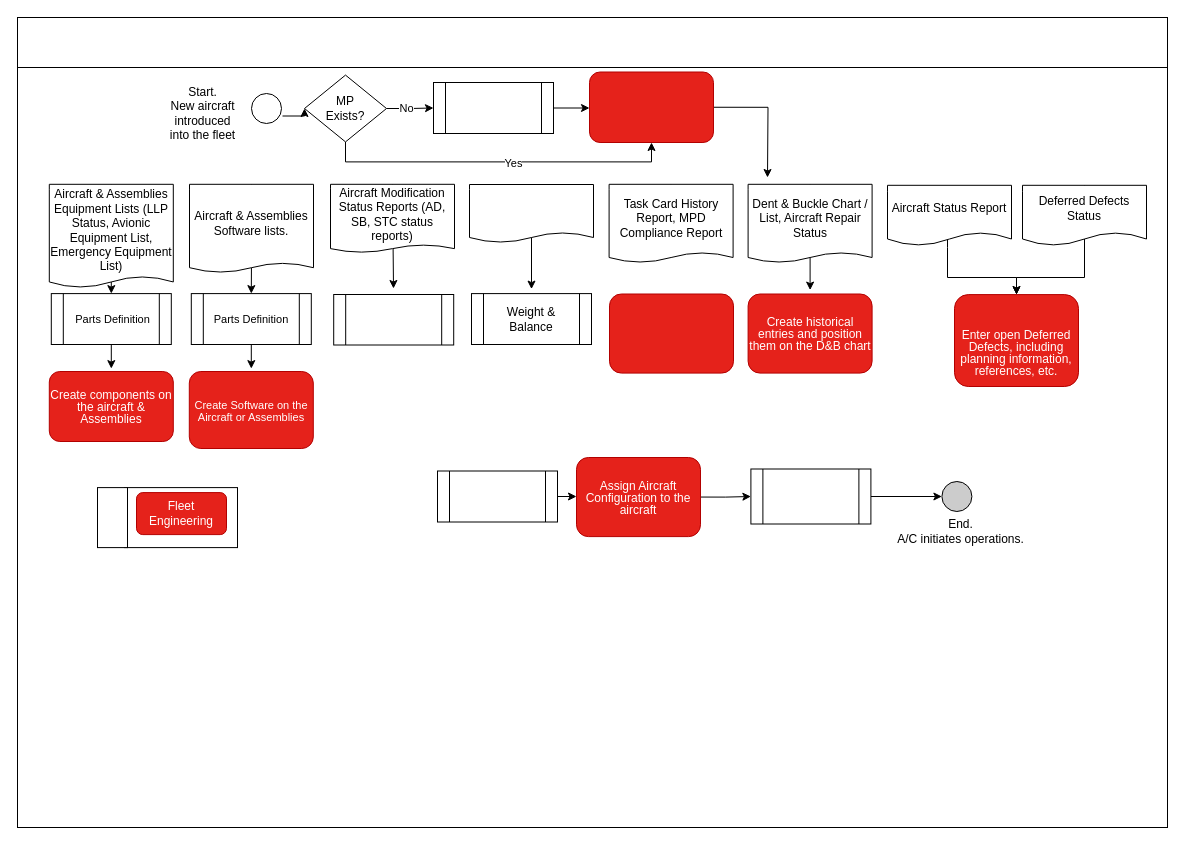
Image size: 1185x845. Some labels were removed from this diagram. Here are the shapes that lost their labels. From the top down, the centre of each, then its label:
the point at 592,42: 02.01 - Aircraft Phase-in - ACI
the point at 493,108: Maintenance Program
the point at 651,106: Assign OMP to the aircraft
the point at 531,213: Aircraft W&B Report
the point at 393,319: SB&AD assessment
the point at 671,333: Initialise OMP Tasks, Initialise Checks
the point at 497,496: Configuration Management
the point at 810,496: Work Package Generation
the point at 112,517: LEGEND
